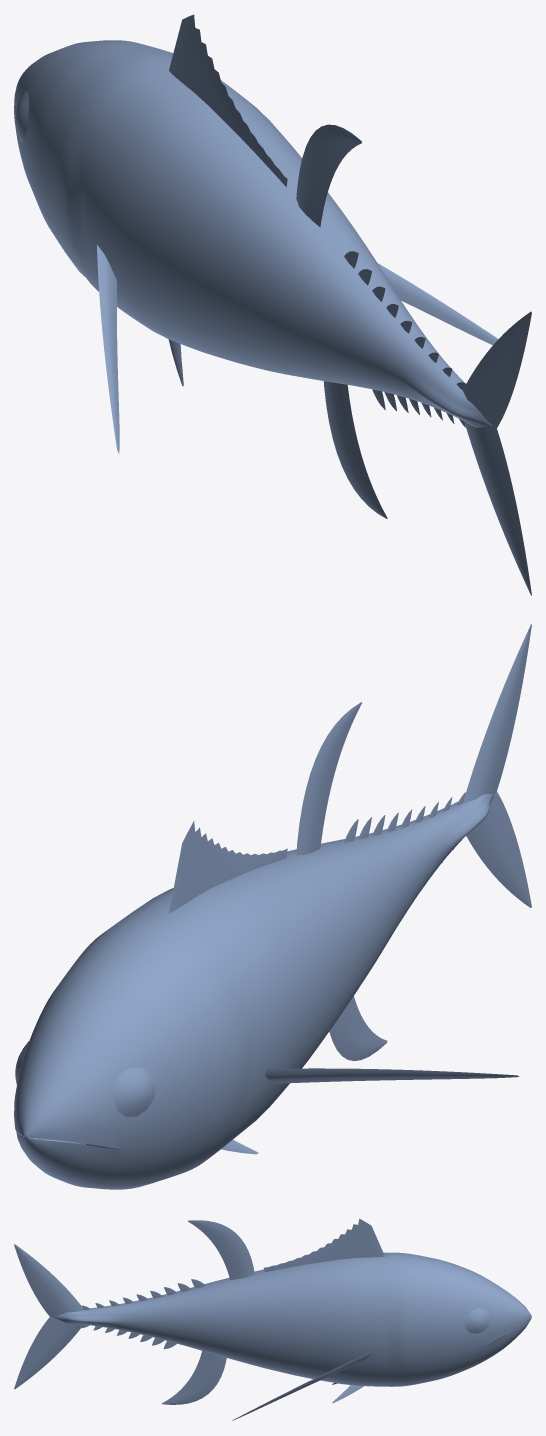
File: bigeye_tuna_lo.glb
The picture shows the model from 3 angles, top to bottom: view 1: azimuth 30°, elevation 25°; view 2: azimuth 150°, elevation 25°; view 3: azimuth 270°, elevation 25°; orthographic projection. The views are drawn at different scales.
Parts seen in each view (by area): view 1: bigeye_tuna_lo; view 2: bigeye_tuna_lo; view 3: bigeye_tuna_lo.
Boxes of the visible parts, x1,y1,x2,y2 form: bigeye_tuna_lo: (14, 14, 531, 595); bigeye_tuna_lo: (14, 624, 531, 1189); bigeye_tuna_lo: (14, 1218, 531, 1420).
Bounding box in the file's own units: 0.8206 × 0.7144 × 1.8.
